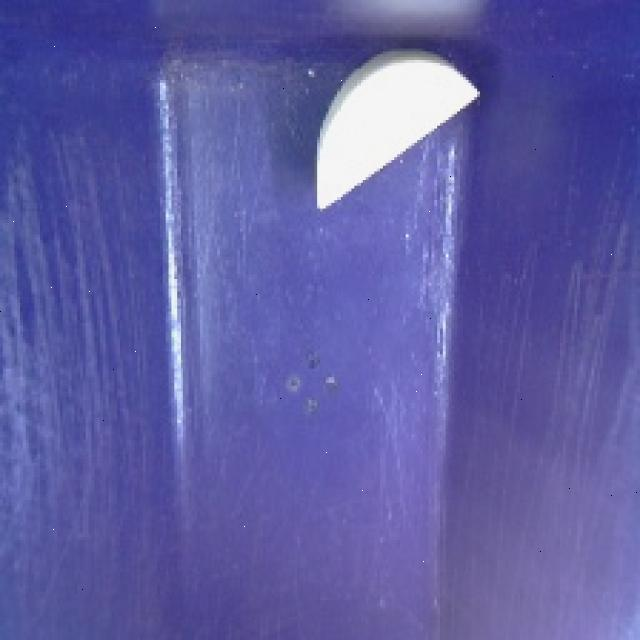white_radish: (308, 40, 489, 218)
